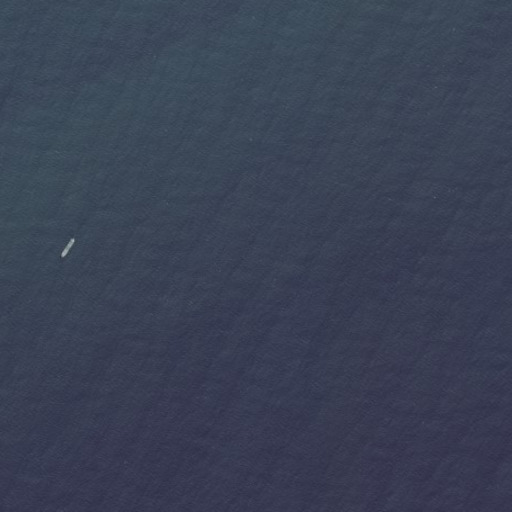ship: (57, 235, 79, 261)
